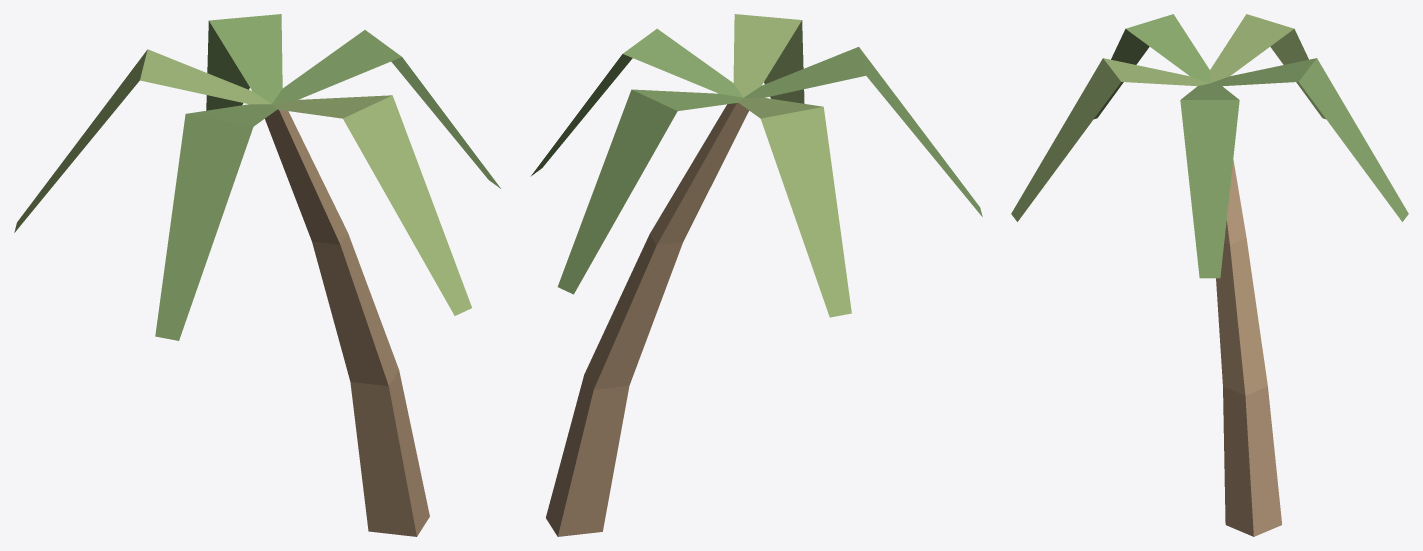
3 renders of one model, left to right at view 1: azimuth 30°, elevation 25°; view 2: azimuth 150°, elevation 25°; view 3: azimuth 270°, elevation 25°, orthographic. The views are drawn at different scales.
Visible parts, largest first — view 1: Body; view 2: Body; view 3: Body.
Part boxes in pixels (x1=…): Body: x1=14, y1=14, x2=500, y2=536; Body: x1=530, y1=14, x2=982, y2=536; Body: x1=1011, y1=14, x2=1408, y2=536.
Size of the model in its own units: 4.14 by 4.93 by 4.35.
